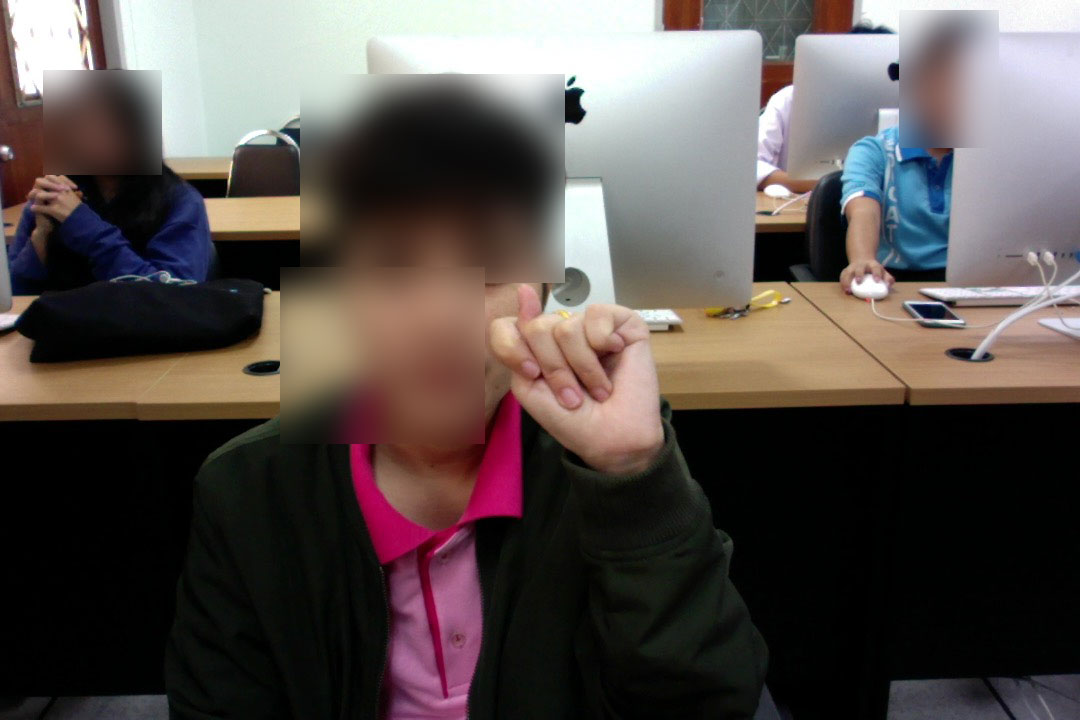tor: (482, 282, 678, 482)
